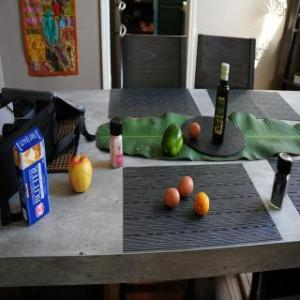bell_pepper: (162, 118, 183, 158)
egg: (164, 187, 180, 211), (178, 175, 194, 197), (186, 121, 200, 140)
